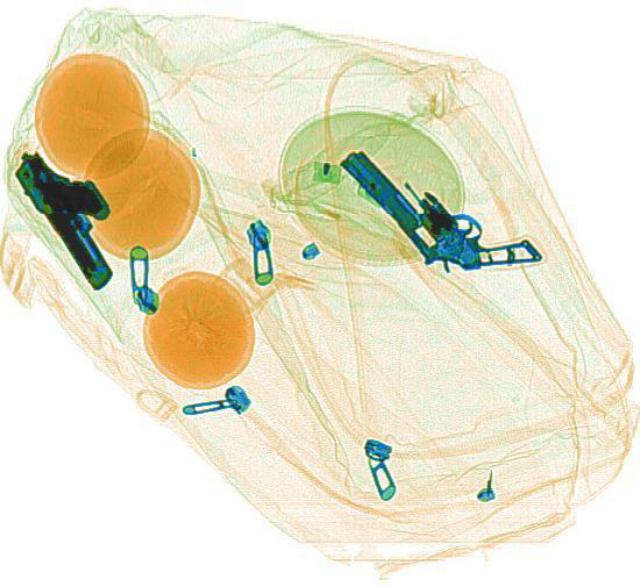Gun: (333, 110, 542, 305), (3, 134, 146, 293)
